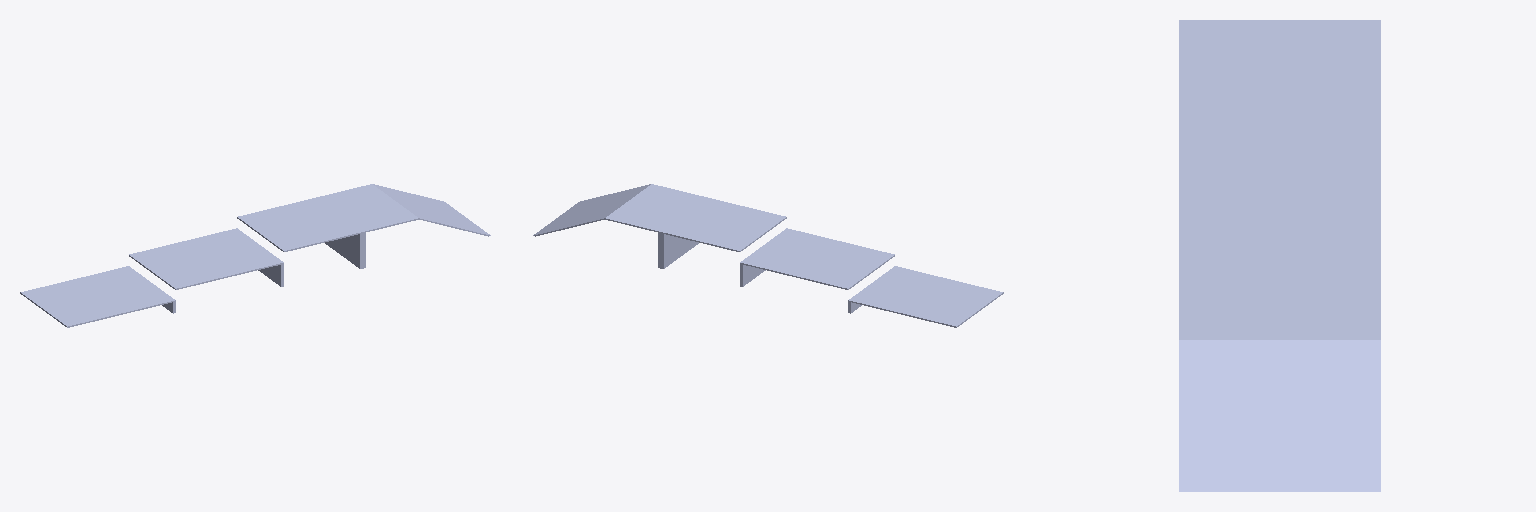
The robot description file, URDF, robot "map15xuongdoc":
<?xml version="1.0" encoding="utf-8"?>
<!-- This URDF was automatically created by SolidWorks to URDF Exporter! Originally created by [author] ([email redacted]) 
     Commit Version: 1.6.0-1-g15f4949  Build Version: 1.6.7594.29634
     For more information, please see http://wiki.ros.org/sw_urdf_exporter -->
<robot
  name="map15xuongdoc">
  <link
    name="base_link">
    <inertial>
      <origin
        xyz="-0.427185129489922 0 -0.107533878601297"
        rpy="0 0 0" />
      <mass
        value="27.6102203097526" />
      <inertia
        ixx="0.950415761406124"
        ixy="1.95191819112707E-15"
        ixz="0.229105248317051"
        iyy="2.84071679328479"
        iyz="2.27053789063667E-16"
        izz="3.54691425046383" />
    </inertial>
    <visual>
      <origin
        xyz="0 0 0"
        rpy="0 0 0" />
      <geometry>
        <mesh
          filename="package://map15xuongdoc/meshes/base_link.STL" />
      </geometry>
      <material
        name="">
        <color
          rgba="0.792156862745098 0.819607843137255 0.933333333333333 1" />
      </material>
    </visual>
    <collision>
      <origin
        xyz="0 0 0"
        rpy="0 0 0" />
      <geometry>
        <mesh
          filename="package://map15xuongdoc/meshes/base_link.STL" />
      </geometry>
    </collision>
  </link>
</robot>

--- Render facts (derived) ---
Views: 3 orthographic renders of the robot side by side, from view 1: azimuth 30°, elevation 25°; view 2: azimuth 150°, elevation 25°; view 3: azimuth 270°, elevation 25°.
Robot: map15xuongdoc — 1 links, 0 joints (none); root link base_link; default pose: every joint at zero.
Links seen in each view (by area): view 1: base_link; view 2: base_link; view 3: base_link.
Boxes of the visible links, box(x1,y1,x2,y2) form: base_link: box(20, 184, 490, 327); base_link: box(533, 184, 1003, 327); base_link: box(1179, 20, 1380, 491).
Size in the robot's own frame: 3.13 by 0.6 by 0.26 metres.
1 mesh visuals loaded from 1 distinct referenced files (1 binary STL).
